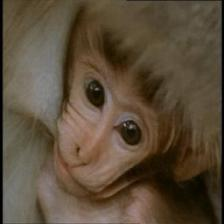monkey: (46, 37, 198, 203)
